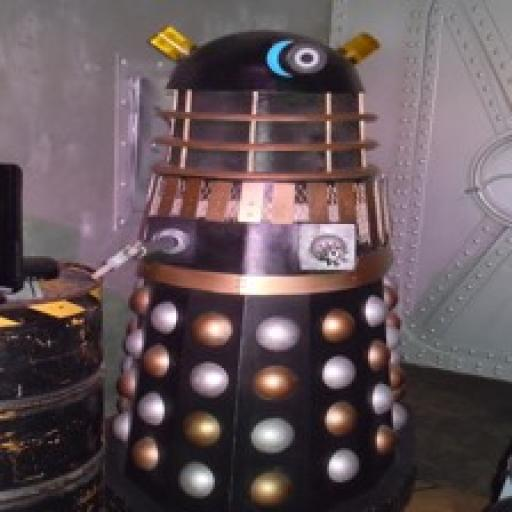dalek: (58, 13, 437, 512)
